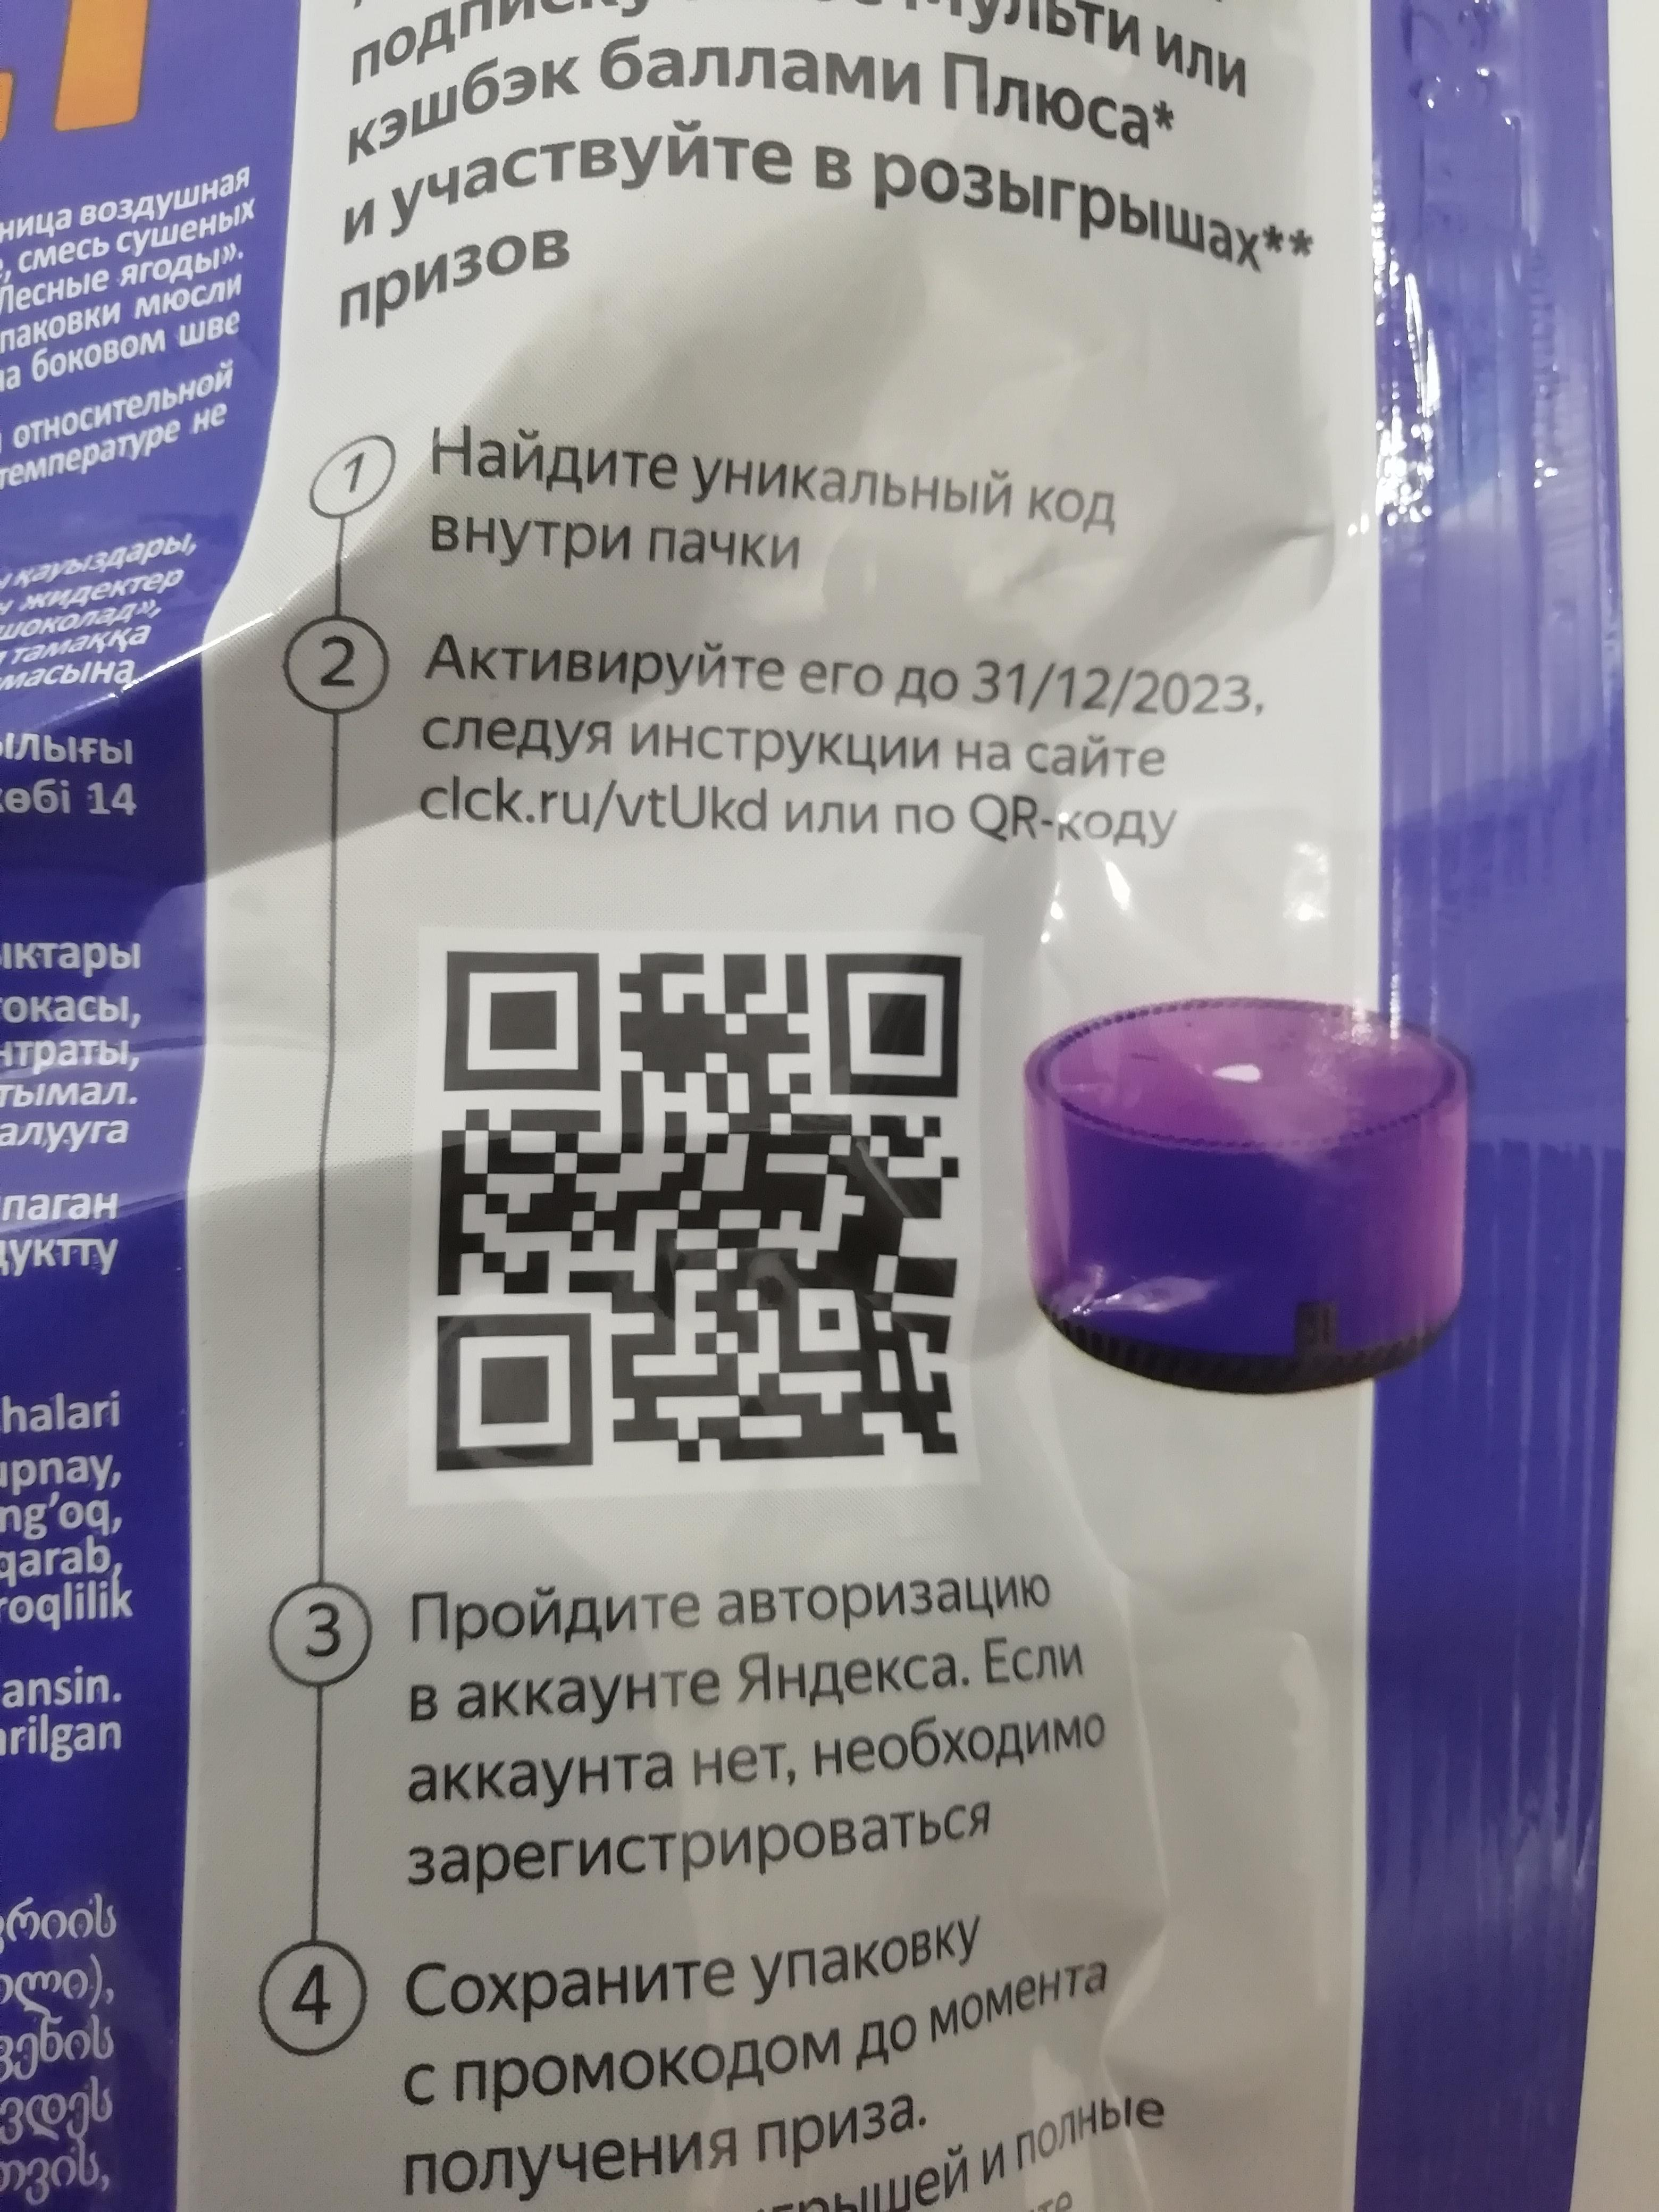qrcode: (437, 949, 965, 1474)
